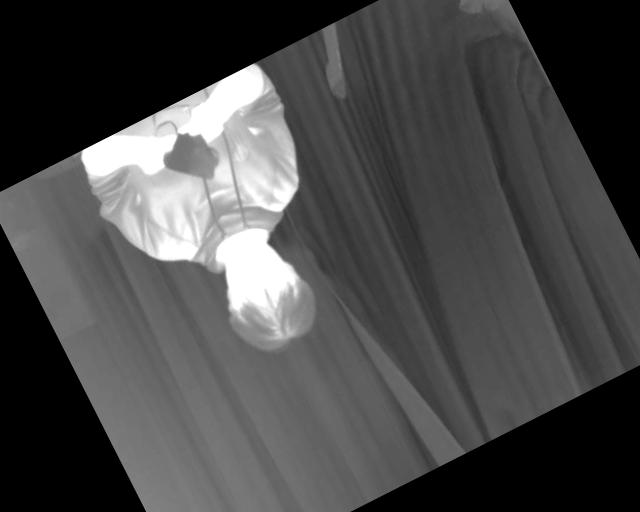face: (203, 223, 327, 361)
